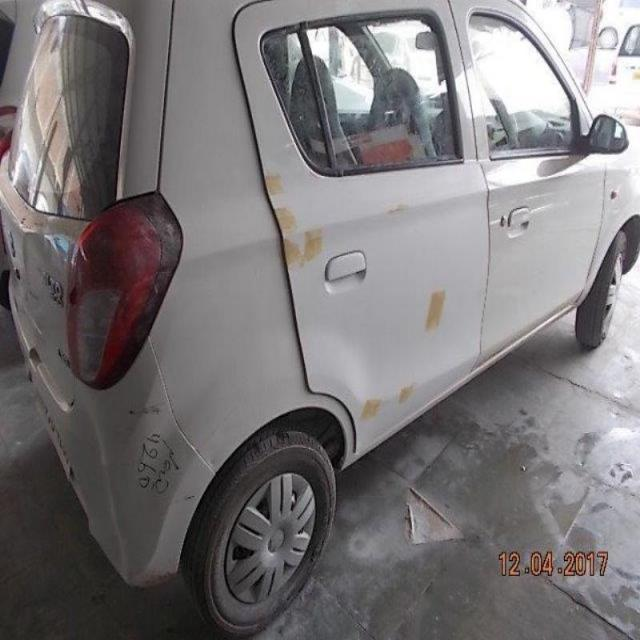damaged: (264, 172, 450, 422)
